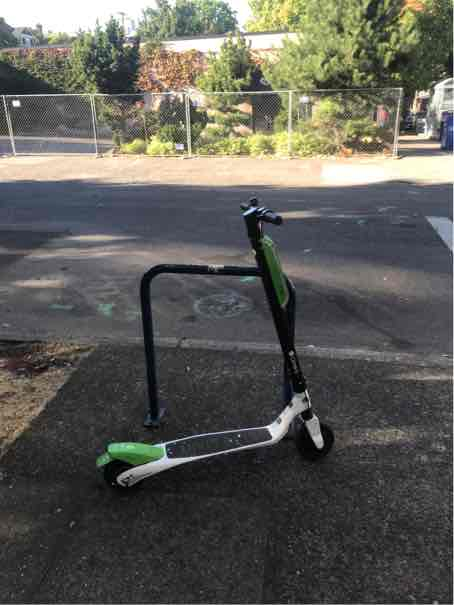scooter: (91, 185, 337, 497)
